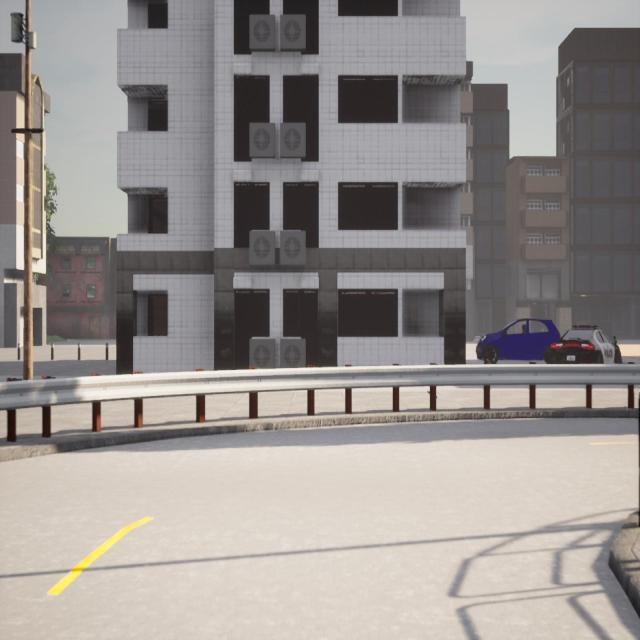Vehicle: (475, 318, 560, 363), (544, 324, 624, 364)
